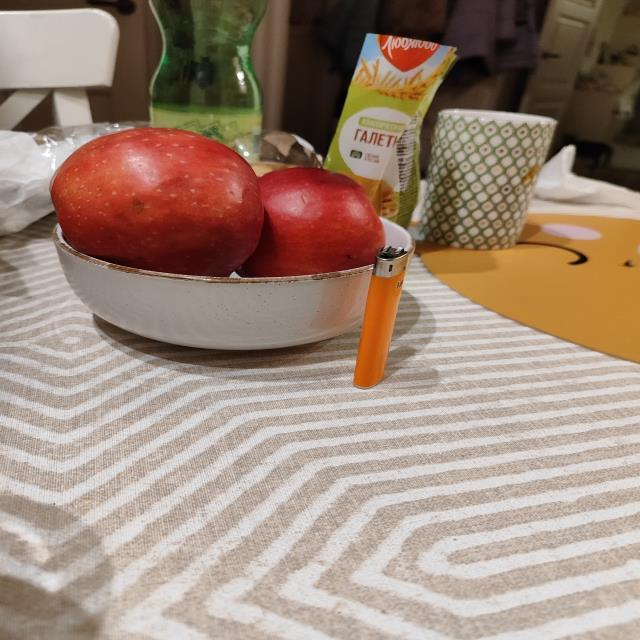lighter: (353, 245, 411, 388)
